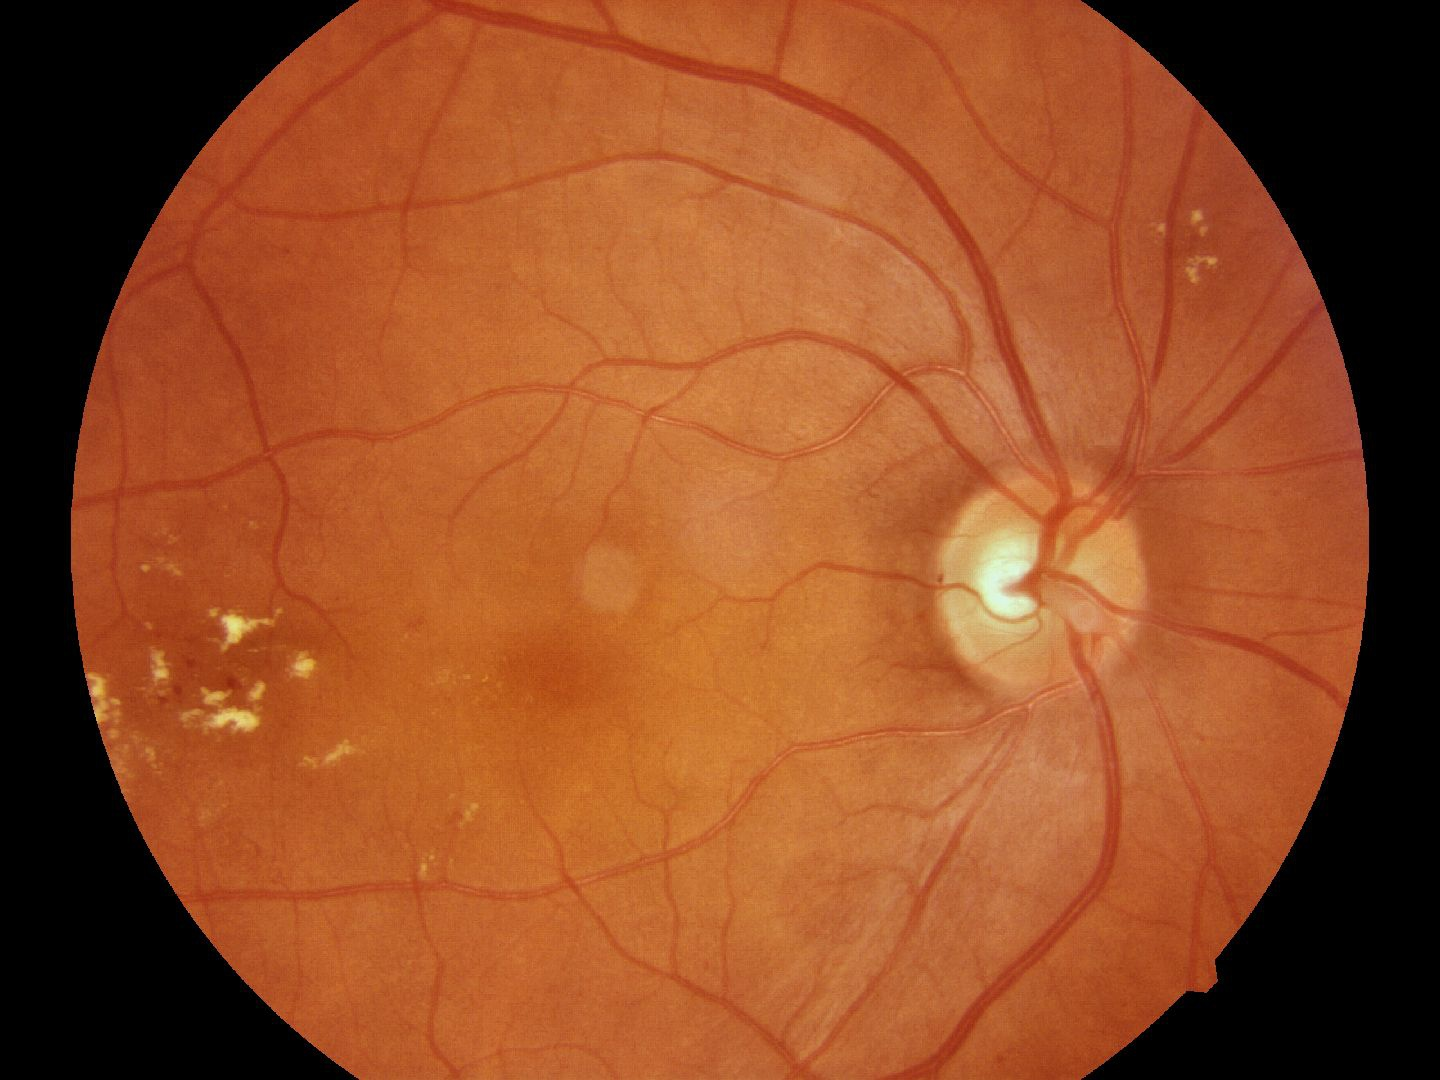Arterioles: (449, 299, 704, 530)
Exudates: (135, 607, 334, 751), (1175, 189, 1233, 298)
Optic-Disc: (942, 469, 1164, 692)
Venules: (748, 56, 1008, 366)
